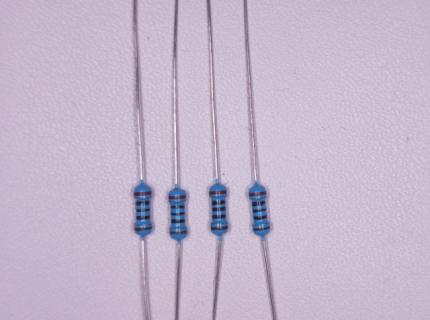Black band: (253, 214, 267, 221), (251, 201, 266, 207), (136, 215, 151, 220), (136, 208, 151, 213), (211, 207, 226, 212), (211, 200, 226, 205), (252, 208, 267, 213), (136, 201, 150, 206), (171, 212, 185, 217), (171, 205, 185, 209), (171, 219, 185, 223), (212, 215, 226, 219)
Brown band: (252, 226, 271, 232), (134, 226, 153, 232), (169, 230, 188, 235), (211, 226, 228, 231)
Red band: (249, 191, 267, 197), (210, 190, 227, 196), (133, 191, 152, 196), (168, 195, 187, 200)
